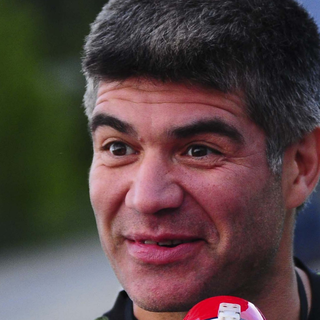eye: (95, 135, 150, 164), (169, 139, 228, 164)
